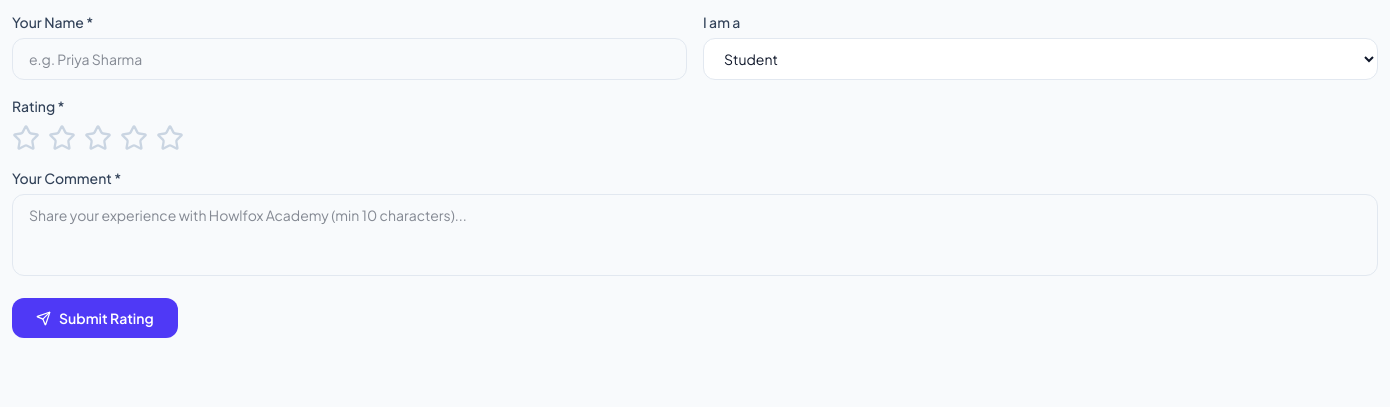
Scenario: RatingForm › shows server error from API response
The image size is (1390, 407).
Click the 5th button. click: (170, 138)
box: [156,124,184,152]
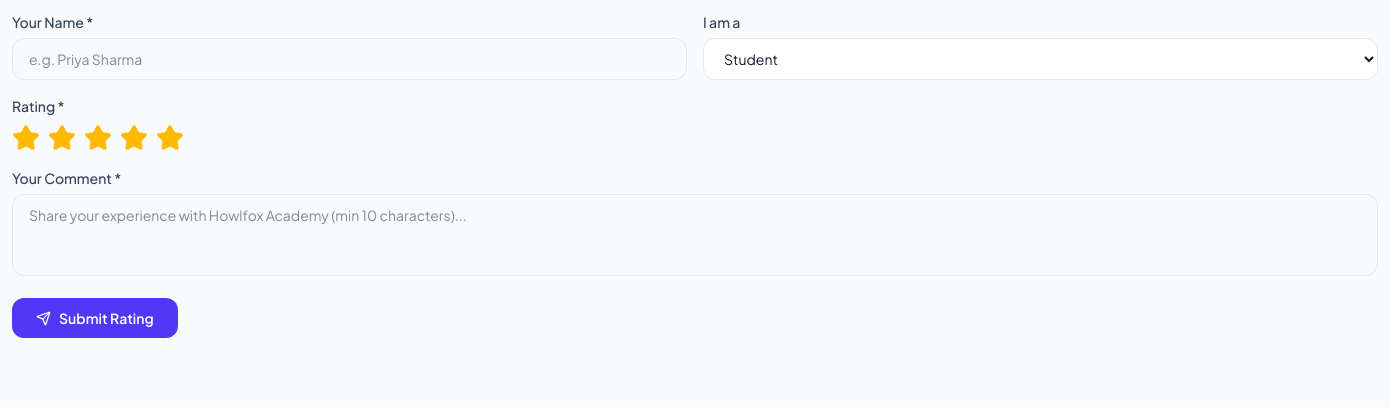
Type "Alice" into the field with placeholder "e.g. Priya Sharma". click: (350, 59)
box: [12,38,687,80]
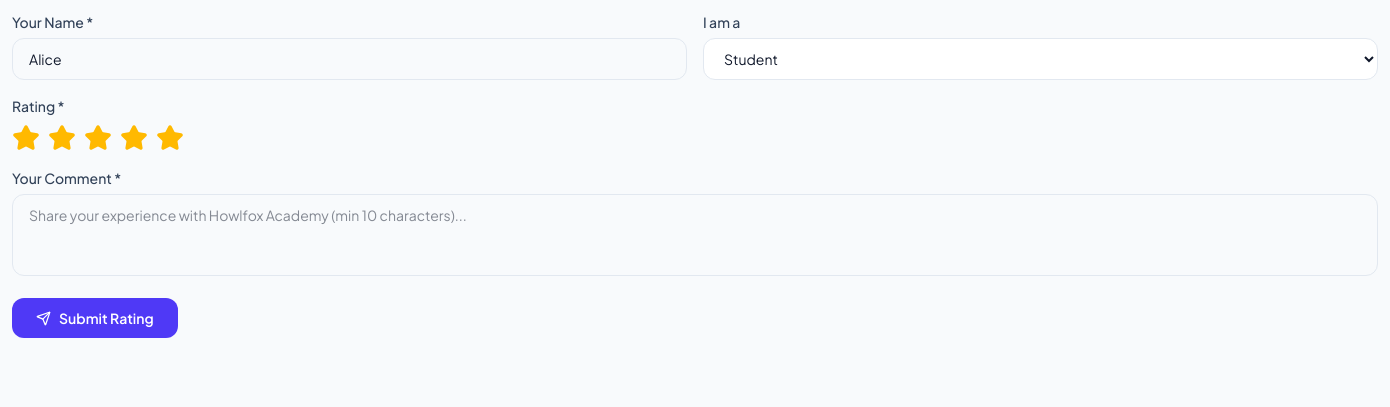
Replace the text in the text box with placeholder "Share your experience" with "Short". click: (695, 235)
box: [12,194,1378,276]
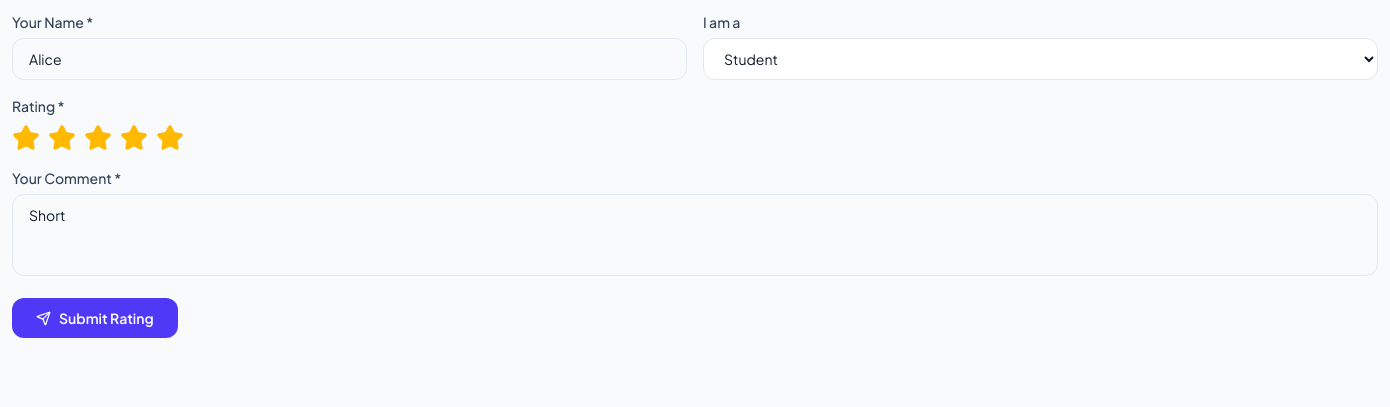
Click the button "Submit Rating". click: (95, 318)
box: [12,298,178,338]
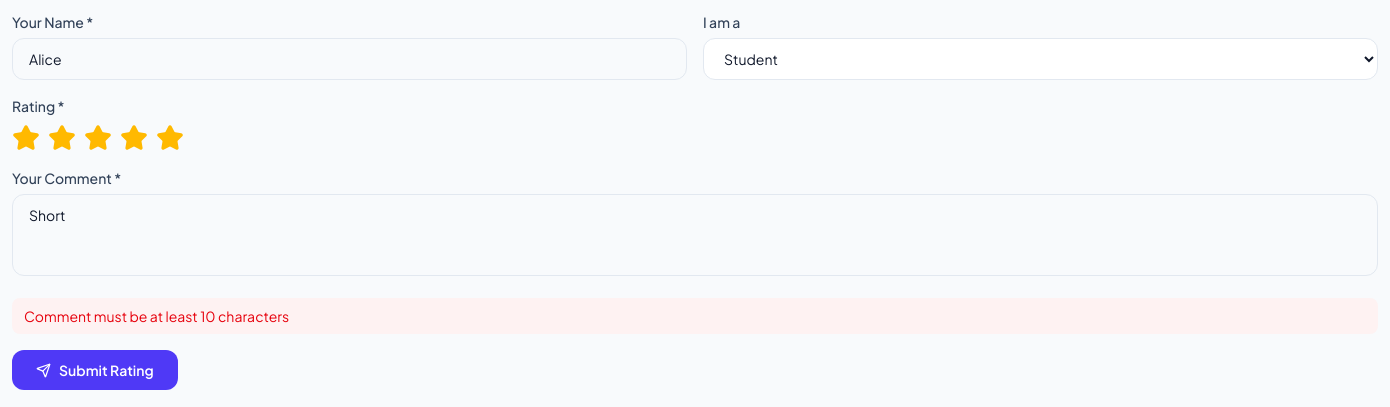
Check: the text "Comment must be at least 10 characters" is shown, box [12,298,1378,334]
